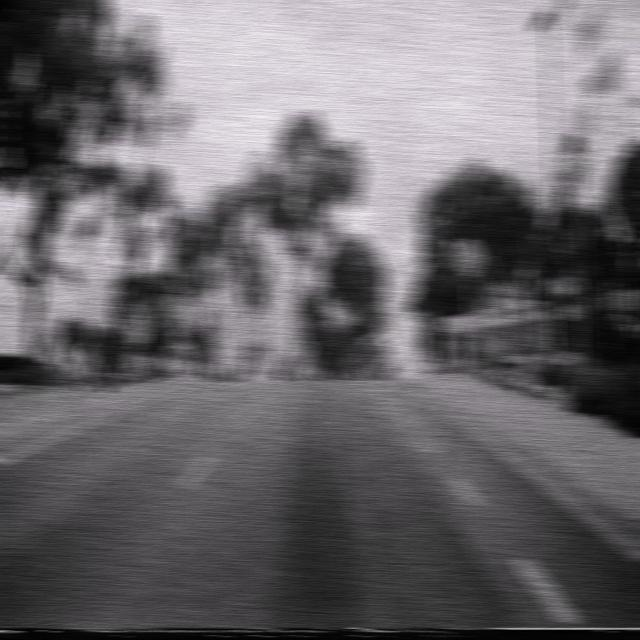stop: (456, 237, 483, 277), (162, 292, 186, 326)
